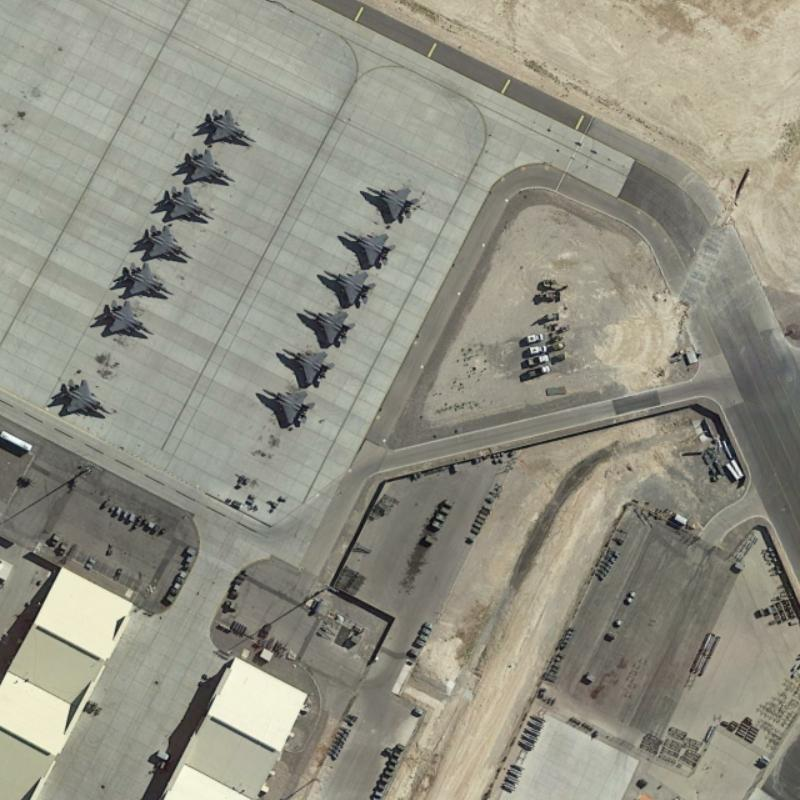A13: (51, 374, 114, 421), (96, 296, 155, 341), (279, 344, 336, 389), (260, 386, 317, 428), (136, 220, 193, 262), (115, 259, 176, 298), (196, 106, 257, 145), (300, 305, 357, 346), (363, 180, 421, 220), (179, 146, 237, 185), (321, 266, 376, 307), (156, 184, 215, 222), (340, 228, 398, 266)
